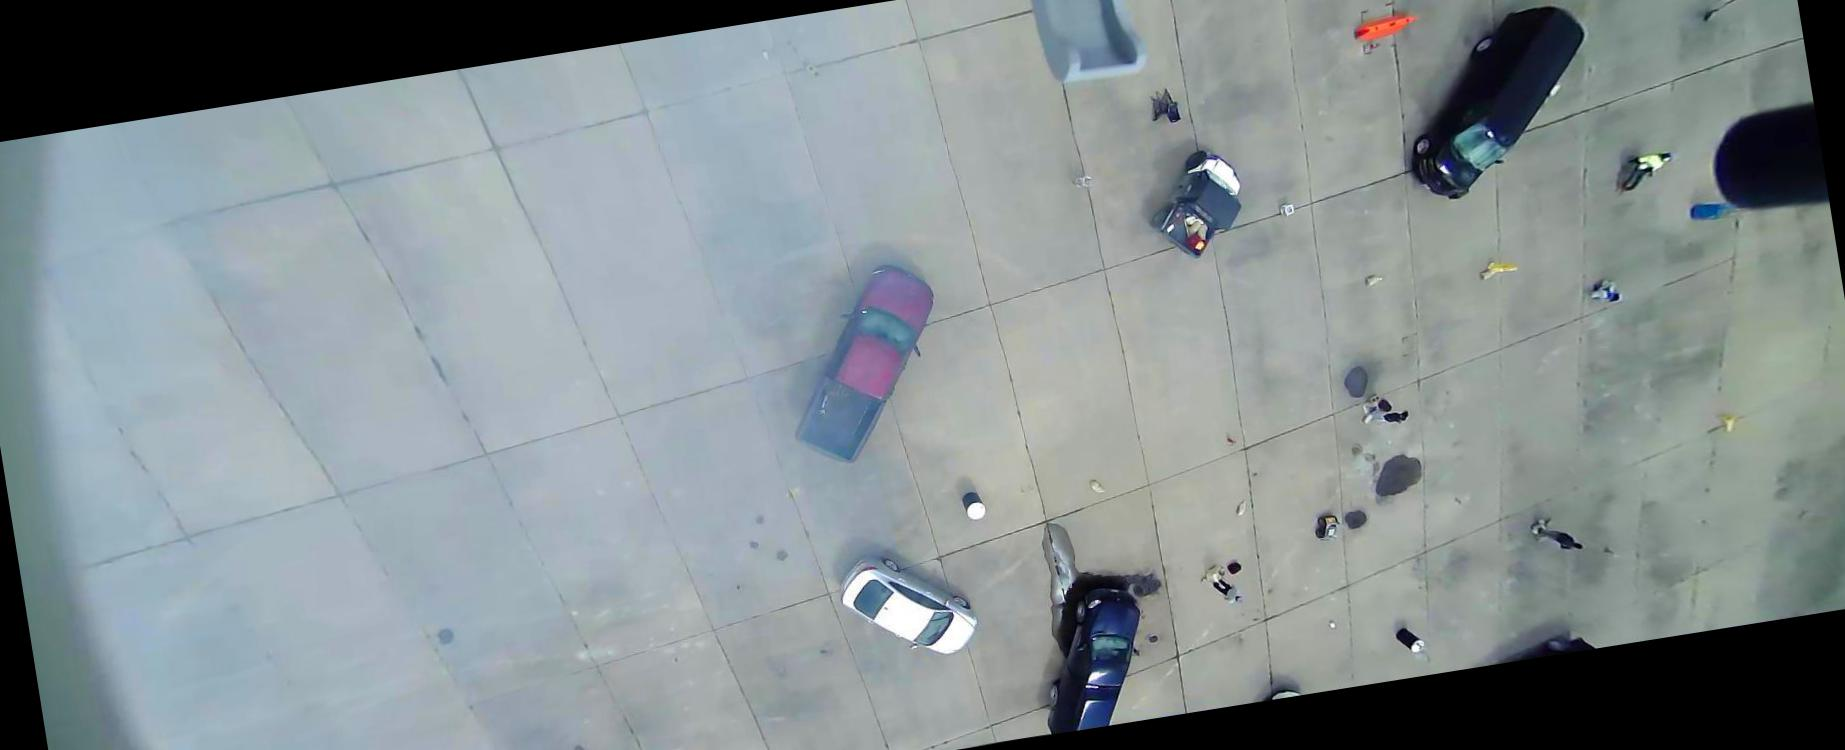vehicle: (1388, 0, 1610, 205), (768, 258, 958, 471), (831, 538, 984, 671), (1025, 580, 1155, 734), (1138, 144, 1252, 266), (1494, 631, 1596, 663)
